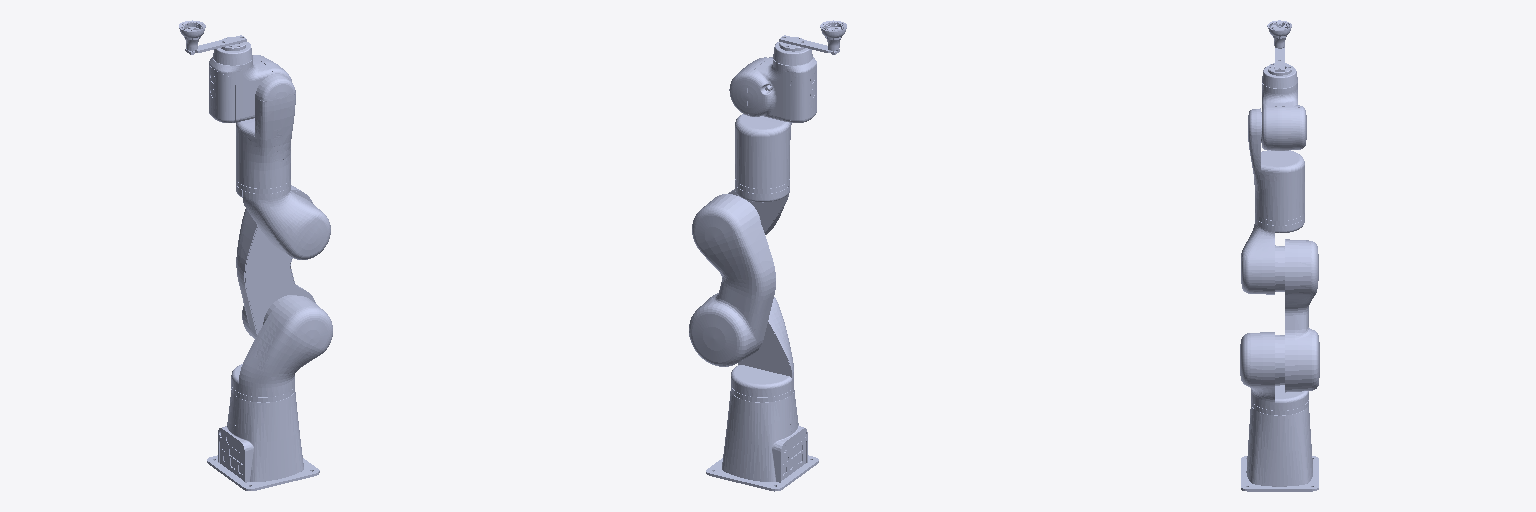
URDF robot description (eva_arm):
<?xml version="1.0" ?>
<!-- =================================================================================== -->
<!-- |    This document was autogenerated by xacro from eva_without_rail.xacro         | -->
<!-- |    EDITING THIS FILE BY HAND IS NOT RECOMMENDED                                 | -->
<!-- |    run the following command in the eva_description/urdf folder                 | -->
<!-- |    to convert .xacro to .urdf:                                                  | -->
<!-- | $: rosrun xacro xacro eva_without_rail.xacro > eva_without_rail.urdf            | -->

<!-- |    run this command to check if the generated urdf file is correct:             | -->
<!-- | $: check_urdf eva_without_rail.urdf                                             | -->

<!-- |robot name is: eva_arm                                                           | -->
<!-- |***Successfully Parsed XML***                                                    | -->
<!-- |root Link: world has 1 child(ren)                                                | -->
<!-- |    child(1):  base_link                                                         | -->
<!-- |        child(1):  link1                                                         | -->
<!-- |            child(1):  link2                                                     | -->
<!-- |                child(1):  link3                                                 | -->
<!-- |                    child(1):  link4                                             | --> 
<!-- |                        child(1):  link5                                         | -->
<!-- |                            child(1):  link6                                     | --> 
<!-- |                                 child(1):  light_link                           | -->                  
<!-- |                                     child(1):  ee_link                          | -->

<!-- |    run this command to view the robotic arm in rviz and control the links:      |-->
<!-- | $: roslaunch urdf_tutorial display.launch model:=[local-path]/Desktop/M2_Thesis | -->
<!-- | /5-RTI-Software/rti_bot_ws/src/eva_description/urdf/eva_without_rail.urdf       |-->

<!-- =================================================================================== -->
<!-- For more information, please see http://wiki.ros.org/sw_urdf_exporter -->

<robot name="eva_arm">
  <!-- ros_control plugin -->
  <gazebo>
    <plugin filename="libgazebo_ros_control.so" name="gazebo_ros_control">
      <robotNamespace>/eva</robotNamespace>
      <robotSimType>gazebo_ros_control/DefaultRobotHWSim</robotSimType>
    </plugin>
  </gazebo>

  <!-- all the links of the robotic arm -->
  <gazebo reference="link1">
    <mu1>0.5</mu1>
    <mu2>0.5</mu2>
    <selfCollide>true</selfCollide>
  </gazebo>
  <gazebo reference="link2">
    <mu1>0.5</mu1>
    <mu2>0.5</mu2>
    <selfCollide>true</selfCollide>
  </gazebo>
  <gazebo reference="link3">
    <mu1>0.5</mu1>
    <mu2>0.5</mu2>
    <selfCollide>true</selfCollide>
  </gazebo>
  <gazebo reference="link4">
    <mu1>0.5</mu1>
    <mu2>0.5</mu2>
    <selfCollide>true</selfCollide>
  </gazebo>
  <gazebo reference="link5">
    <mu1>0.5</mu1>
    <mu2>0.5</mu2>
    <selfCollide>true</selfCollide>
  </gazebo>
  <gazebo reference="link6">
    <mu1>0.5</mu1>
    <mu2>0.5</mu2>
    <selfCollide>true</selfCollide>
  </gazebo>

  <!-- controllers for the robotic arm -->
  <transmission name="trans_joint01">
    <type>transmission_interface/SimpleTransmission</type>
    <joint name="joint01">
      <hardwareInterface>hardware_interface/EffortJointInterface</hardwareInterface>
    </joint>
    <actuator name="joint01_motor">
      <hardwareInterface>hardware_interface/EffortJointInterface</hardwareInterface>
      <mechanicalReduction>1</mechanicalReduction>
    </actuator>
  </transmission>
  <transmission name="trans_joint12">
    <type>transmission_interface/SimpleTransmission</type>
    <joint name="joint12">
      <hardwareInterface>hardware_interface/EffortJointInterface</hardwareInterface>
    </joint>
    <actuator name="joint12_motor">
      <hardwareInterface>hardware_interface/EffortJointInterface</hardwareInterface>
      <mechanicalReduction>1</mechanicalReduction>
    </actuator>
  </transmission>
  <transmission name="trans_joint23">
    <type>transmission_interface/SimpleTransmission</type>
    <joint name="joint23">
      <hardwareInterface>hardware_interface/EffortJointInterface</hardwareInterface>
    </joint>
    <actuator name="joint23_motor">
      <hardwareInterface>hardware_interface/EffortJointInterface</hardwareInterface>
      <mechanicalReduction>1</mechanicalReduction>
    </actuator>
  </transmission>
  <transmission name="trans_joint34">
    <type>transmission_interface/SimpleTransmission</type>
    <joint name="joint34">
      <hardwareInterface>hardware_interface/EffortJointInterface</hardwareInterface>
    </joint>
    <actuator name="joint34_motor">
      <hardwareInterface>hardware_interface/EffortJointInterface</hardwareInterface>
      <mechanicalReduction>1</mechanicalReduction>
    </actuator>
  </transmission>
  <transmission name="trans_joint45">
    <type>transmission_interface/SimpleTransmission</type>
    <joint name="joint45">
      <hardwareInterface>hardware_interface/EffortJointInterface</hardwareInterface>
    </joint>
    <actuator name="joint45_motor">
      <hardwareInterface>hardware_interface/EffortJointInterface</hardwareInterface>
      <mechanicalReduction>1</mechanicalReduction>
    </actuator>
  </transmission>
  <transmission name="trans_joint56">
    <type>transmission_interface/SimpleTransmission</type>
    <joint name="joint56">
      <hardwareInterface>hardware_interface/EffortJointInterface</hardwareInterface>
    </joint>
    <actuator name="joint56_motor">
      <hardwareInterface>hardware_interface/EffortJointInterface</hardwareInterface>
      <mechanicalReduction>1</mechanicalReduction>
    </actuator>
  </transmission>

  <link name="world"/>
  <link name="base_link">
    <gravity>0</gravity>
    <inertial>
      <origin rpy="0 0 0" xyz="-0.00079256 0.072247 -4.2906E-06"/>
      <mass value="2.2163"/>
      <inertia ixx="0.0065308" ixy="-2.9126E-05" ixz="-1.2386E-06" iyy="0.0051738" iyz="-5.4387E-07" izz="0.0065939"/>
    </inertial>
    <visual>
      <origin rpy="0 0 0" xyz="0 0 0"/>
      <geometry>
        <mesh filename="package://eva_description/meshes/base_link.STL"/>
      </geometry>
      <material name="">
        <color rgba="0.79216 0.81961 0.93333 1"/>
      </material>
    </visual>
    <collision>
      <origin rpy="0 0 0" xyz="0 0 0"/>
      <geometry>
        <mesh filename="package://eva_description/meshes/base_link.STL"/>
      </geometry>
    </collision>
  </link>
  <joint name="world_to_base_link" type="fixed">
    <origin rpy="0 0 0" xyz="-0.145 -2.35 1.8795"/>
    <parent link="world"/>
    <child link="base_link"/>
    <axis xyz="0 0 0"/>
  </joint>
  <link name="link1">
    <gravity>0</gravity>
    <inertial>
      <origin rpy="0 0 0" xyz="0.033792 0.10158 0.028608"/>
      <mass value="1.3679"/>
      <inertia ixx="0.0024595" ixy="-0.0008869" ixz="-0.00013245" iyy="0.0021904" iyz="-0.00017806" izz="0.00385"/>
    </inertial>
    <visual>
      <origin rpy="0 0 0" xyz="0 0 0"/>
      <geometry>
        <mesh filename="package://eva_description/meshes/link1.STL"/>
      </geometry>
      <material name="">
        <color rgba="0.79216 0.81961 0.93333 1"/>
      </material>
    </visual>
    <collision>
      <origin rpy="0 0 0" xyz="0 0 0"/>
      <geometry>
        <mesh filename="package://eva_description/meshes/link1.STL"/>
      </geometry>
    </collision>
  </link>
  <joint name="joint01" type="revolute">
    <origin rpy="1.5708 0 0" xyz="0 0 0.151"/>
    <parent link="base_link"/>
    <child link="link1"/>
    <axis xyz="0 1 0"/>
    <limit effort="100" lower="-3.12414" upper="3.12414" velocity="2.16"/>
    <dynamics damping="0.8" friction="10"/>
  </joint>
  <link name="link2">
    <gravity>0</gravity>
    <inertial>
      <origin rpy="0 0 0" xyz="-0.011054 0.095532 -0.041105"/>
      <mass value="2.1464"/>
      <inertia ixx="0.019567" ixy="0.00037463" ixz="0.00015985" iyy="0.0033754" iyz="-7.8572E-05" izz="0.021425"/>
    </inertial>
    <visual>
      <origin rpy="0 0 0" xyz="0 0 0"/>
      <geometry>
        <mesh filename="package://eva_description/meshes/link2.STL"/>
      </geometry>
      <material name="">
        <color rgba="0.79216 0.81961 0.93333 1"/>
      </material>
    </visual>
    <collision>
      <origin rpy="0 0 0" xyz="0 0 0"/>
      <geometry>
        <mesh filename="package://eva_description/meshes/link2.STL"/>
      </geometry>
    </collision>
  </link>
  <joint name="joint12" type="revolute">
    <origin rpy="0 0 0" xyz="0.056 0.1323 0"/>
    <parent link="link1"/>
    <child link="link2"/>
    <axis xyz="0 0 1"/>
    <limit effort="150" lower="-2.70526" upper="1.22173" velocity="1.0"/>
    <dynamics damping="0.8" friction="10"/>
  </joint>
  <link name="link3">
    <gravity>0</gravity>
    <inertial>
      <origin rpy="0 0 0" xyz="-0.017599 0.021043 0.028835"/>
      <mass value="1.0412"/>
      <inertia ixx="0.0014019" ixy="0.0004906" ixz="-9.7827E-05" iyy="0.0013971" iyz="0.00010907" izz="0.0022277"/>
    </inertial>
    <visual>
      <origin rpy="0 0 0" xyz="0 0 0"/>
      <geometry>
        <mesh filename="package://eva_description/meshes/link3.STL"/>
      </geometry>
      <material name="">
        <color rgba="0.79216 0.81961 0.93333 1"/>
      </material>
    </visual>
    <collision>
      <origin rpy="0 0 0" xyz="0 0 0"/>
      <geometry>
        <mesh filename="package://eva_description/meshes/link3.STL"/>
      </geometry>
    </collision>
  </link>
  <joint name="joint23" type="revolute">
    <origin rpy="0 0 0" xyz="0 0.205 0"/>
    <parent link="link2"/>
    <child link="link3"/>
    <axis xyz="0 0 1"/>
    <limit effort="100" lower="-2.79253" upper="0.785398" velocity="1"/>
    <dynamics damping="0.8" friction="10"/>
  </joint>
  <link name="link4">
    <gravity>0</gravity>
    <inertial>
      <origin rpy="0 0 0" xyz="6.3485E-05 0.082453 -0.0083688"/>
      <mass value="1.2151"/>
      <inertia ixx="0.0030376" ixy="-7.1559E-06" ixz="8.224E-07" iyy="0.0010632" iyz="0.00042179" izz="0.0034635"/>
    </inertial>
    <visual>
      <origin rpy="0 0 0" xyz="0 0 0"/>
      <geometry>
        <mesh filename="package://eva_description/meshes/link4.STL"/>
      </geometry>
      <material name="">
        <color rgba="0.79216 0.81961 0.93333 1"/>
      </material>
    </visual>
    <collision>
      <origin rpy="0 0 0" xyz="0 0 0"/>
      <geometry>
        <mesh filename="package://eva_description/meshes/link4.STL"/>
      </geometry>
    </collision>
  </link>
  <joint name="joint34" type="revolute">
    <origin rpy="3.1416 0 3.1416" xyz="-0.056 0.09401 0"/>
    <parent link="link3"/>
    <child link="link4"/>
    <axis xyz="0 1 0"/>
    <limit effort="30" lower="-3.12414" upper="3.12414" velocity="1"/>
    <dynamics damping="0.8" friction="10"/>
  </joint>
  <link name="link5">
    <gravity>0</gravity>
    <inertial>
      <origin rpy="0 0 0" xyz="0.033633 0.0068289 0.0038977"/>
      <mass value="1.1633"/>
      <inertia ixx="0.0014093" ixy="-7.9912E-05" ixz="1.6075E-05" iyy="0.00064393" iyz="7.6612E-06" izz="0.0012682"/>
    </inertial>
    <visual>
      <origin rpy="0 0 0" xyz="0 0 0"/>
      <geometry>
        <mesh filename="package://eva_description/meshes/link5.STL"/>
      </geometry>
      <material name="">
        <color rgba="0.79216 0.81961 0.93333 1"/>
      </material>
    </visual>
    <collision>
      <origin rpy="0 0 0" xyz="0 0 0"/>
      <geometry>
        <mesh filename="package://eva_description/meshes/link5.STL"/>
      </geometry>
    </collision>
  </link>
  <joint name="joint45" type="revolute">
    <origin rpy="0 0 0" xyz="0 0.1966 0"/>
    <parent link="link4"/>
    <child link="link5"/>
    <axis xyz="0 0 1"/>
    <limit effort="45" lower="-0.174533" upper="2.70526" velocity="1"/>
    <dynamics damping="0.8" friction="10"/>
  </joint>
  <link name="link6">
    <gravity>0</gravity>
    <inertial>
      <origin rpy="0 0 0" xyz="0.00010738 0.012024 3.1104E-05"/>
      <mass value="0.089988"/>
      <inertia ixx="3.1549E-05" ixy="9.9188E-08" ixz="-3.6831E-08" iyy="5.6401E-05" iyz="-1.5979E-09" izz="3.1789E-05"/>
    </inertial>
    <visual>
      <origin rpy="0 0 0" xyz="0 0 0"/>
      <geometry>
        <mesh filename="package://eva_description/meshes/link6.STL"/>
      </geometry>
      <material name="">
        <color rgba="0.79216 0.81961 0.93333 1"/>
      </material>
    </visual>
    <collision>
      <origin rpy="0 0 0" xyz="0 0 0"/>
      <geometry>
        <mesh filename="package://eva_description/meshes/link6.STL"/>
      </geometry>
    </collision>
  </link>
  <joint name="joint56" type="revolute">
    <origin rpy="0 0 0" xyz="0.065 0.0741 0"/>
    <parent link="link5"/>
    <child link="link6"/>
    <axis xyz="0 1 0"/>
    <limit effort="30" lower="-3.12414" upper="3.12414" velocity="1"/>
    <dynamics damping="0.8" friction="10"/>
  </joint>
  <link name="light_link">
    <gravity>0</gravity>
    <inertial>
      <origin rpy="0 0 0" xyz="0.000 0.0 0.0"/>
      <mass value="0.089988"/>
      <inertia ixx="3.1549E-05" ixy="9.9188E-08" ixz="-3.6831E-08" iyy="5.6401E-05" iyz="-1.5979E-09" izz="3.1789E-05"/>
    </inertial>
    <visual>
      <origin rpy="0 0 0" xyz="0 0 0"/>
      <geometry>
        <!-- filename="package://eva_description/meshes/light_assembly.STL" /> -->
        <mesh filename="package://eva_description/meshes/Led_plate_assembly.STL" scale="0.001 0.001 0.001"/>
      </geometry>
      <material name="">
        <color rgba="0.79216 0.81961 0.93333 1"/>
      </material>
    </visual>
    <collision>
      <origin rpy="0 0 0" xyz="0 0 0"/>
      <geometry>
        <!-- filename="package://eva_description/meshes/light_assembly.STL" /> -->
        <mesh filename="package://eva_description/meshes/Led_plate_assembly.STL" scale="0.001 0.001 0.001"/>
      </geometry>
    </collision>
  </link>
  <joint name="joint67" type="fixed">
    <!-- <origin xyz="0.12 0.025 -0.0325" rpy="-${pi/2} ${pi} 0.0" /> -->
    <origin rpy="-1.5707963267948966 0.0 0.0" xyz="-0.025 0.028 0.025"/>
    <parent link="link6"/>
    <child link="light_link"/>
  </joint>
  <link name="ee_link"> 
  </link>
  <joint name="ee_link_joint" type="fixed">
    <origin rpy="-1.5707963267948966 3.141592653589793 0" xyz="0.11 0.025 0.06"/>
    <!-- <origin xyz="0.05 0.03 0.175" rpy="-${pi/2} ${pi} 0.0"/> -->
    <parent link="light_link"/>
    <child link="ee_link"/>
  </joint>
</robot>

--- What the picture shows (computed from the rendered views, not written in the file) ---
The picture shows the robot from 3 angles, left to right: view 1: azimuth 30°, elevation 25°; view 2: azimuth 150°, elevation 25°; view 3: azimuth 270°, elevation 25°; orthographic projection.
Robot: eva_arm — 10 links, 9 joints (6 revolute, 3 fixed); root link world; default pose: every joint at zero.
Links seen in each view (by area): view 1: base_link, link1, link4, link2, link3, link5, light_link, link6; view 2: link2, base_link, link5, link4, link1, link3, light_link, link6; view 3: base_link, link2, link4, link1, link3, link5, light_link, link6.
Boxes of the visible links, box(x1,y1,x2,y2) form: base_link: box(207, 384, 319, 490); link1: box(231, 295, 332, 396); link4: box(236, 74, 295, 193); link2: box(236, 185, 315, 338); link3: box(236, 184, 330, 259); link5: box(209, 55, 291, 122); light_link: box(179, 20, 246, 54); link6: box(213, 37, 252, 65); link2: box(689, 194, 775, 366); base_link: box(706, 387, 818, 491); link5: box(729, 57, 816, 122); link4: box(735, 57, 791, 193); link1: box(731, 297, 793, 396); link3: box(728, 185, 789, 234); light_link: box(779, 20, 846, 54); link6: box(773, 37, 812, 65); base_link: box(1241, 400, 1318, 491); link2: box(1285, 239, 1319, 392); link4: box(1248, 108, 1304, 225); link1: box(1240, 332, 1308, 410); link3: box(1241, 217, 1304, 294); link5: box(1262, 83, 1306, 150); light_link: box(1267, 20, 1291, 71); link6: box(1262, 63, 1297, 88).
Bounding box of the posed robot: 0.2985 × 0.1645 × 0.9365 m (x, y, z).
Meshes: 8 distinct files referenced, 8 mesh visuals loaded (8 binary STL).
